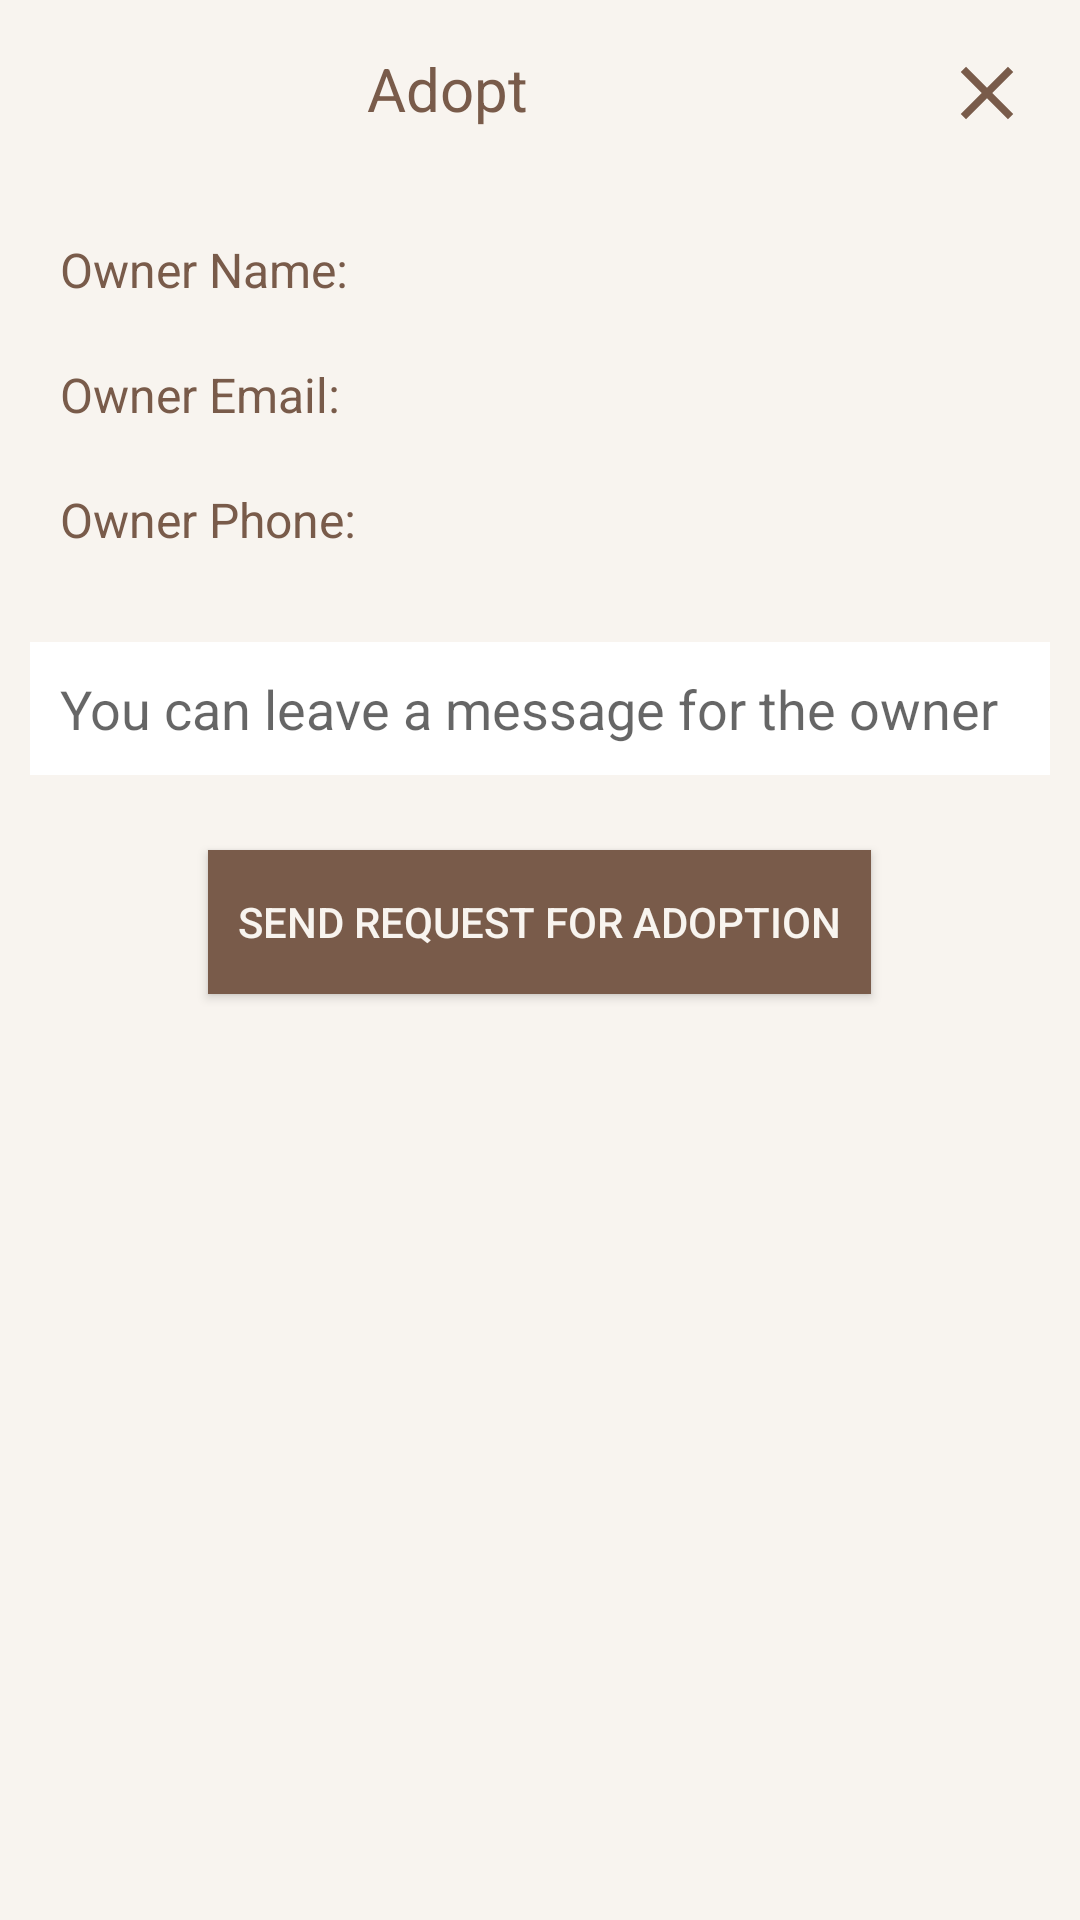

Screen size 1080px×1920px. Icon name, then its center in pixels as (x,y):
close: (987,93)
